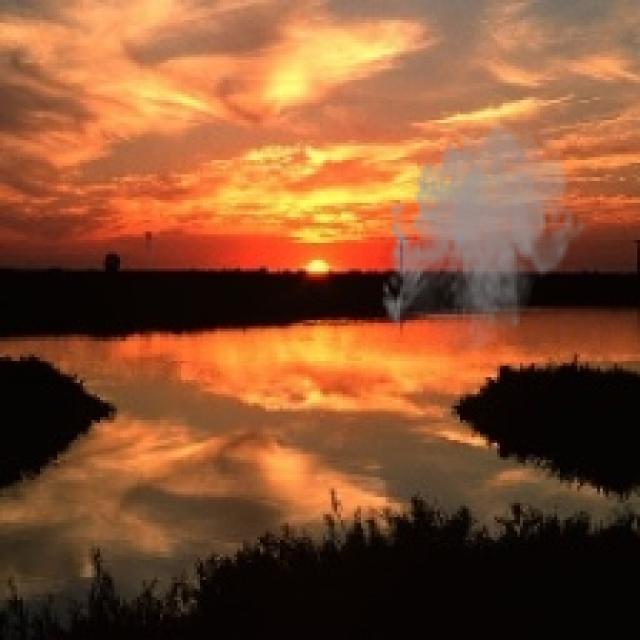Smoke: (377, 114, 589, 360)
